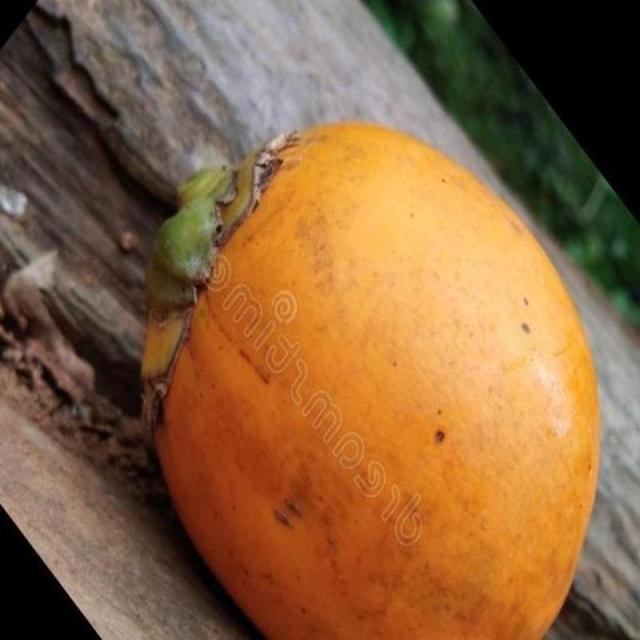good: (142, 123, 603, 639)
